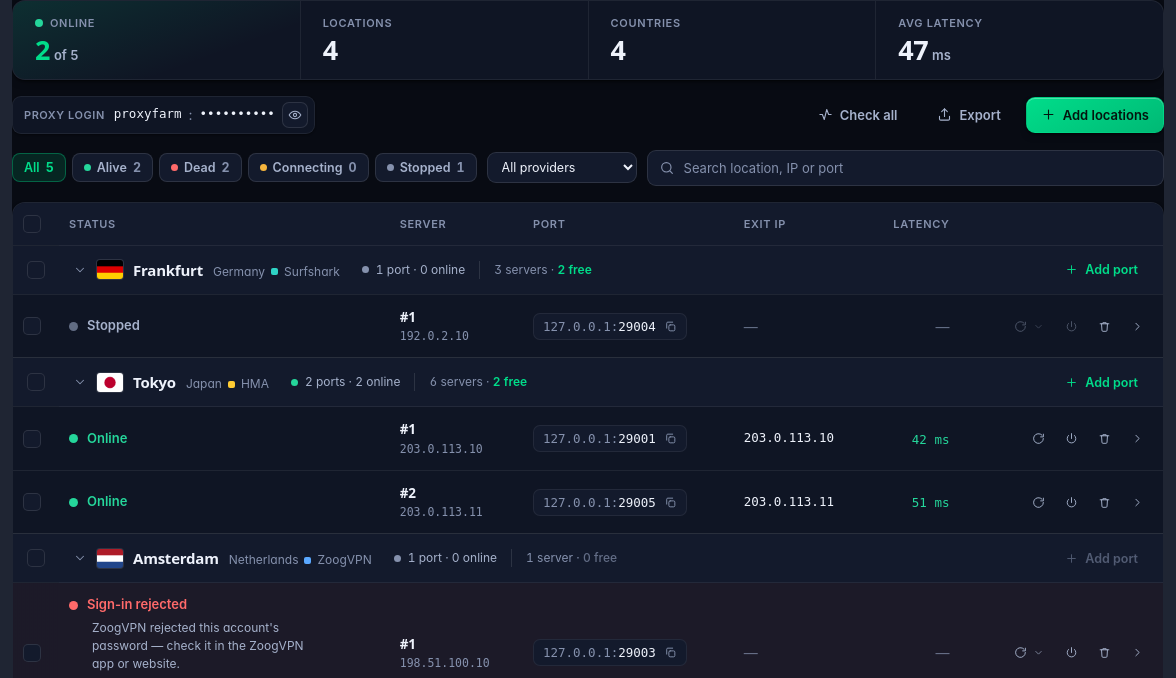
Test: MainScreen › the group checkbox selects every port of that location
Expected: the row with test id "port-row-hma:JP-TOKYO#1" is shown, x1=13 y1=407 x2=1163 y2=470
Click the checkbox named "Select every port in Tokyo" at [36, 382], box x1=27 y1=373 x2=45 y2=391
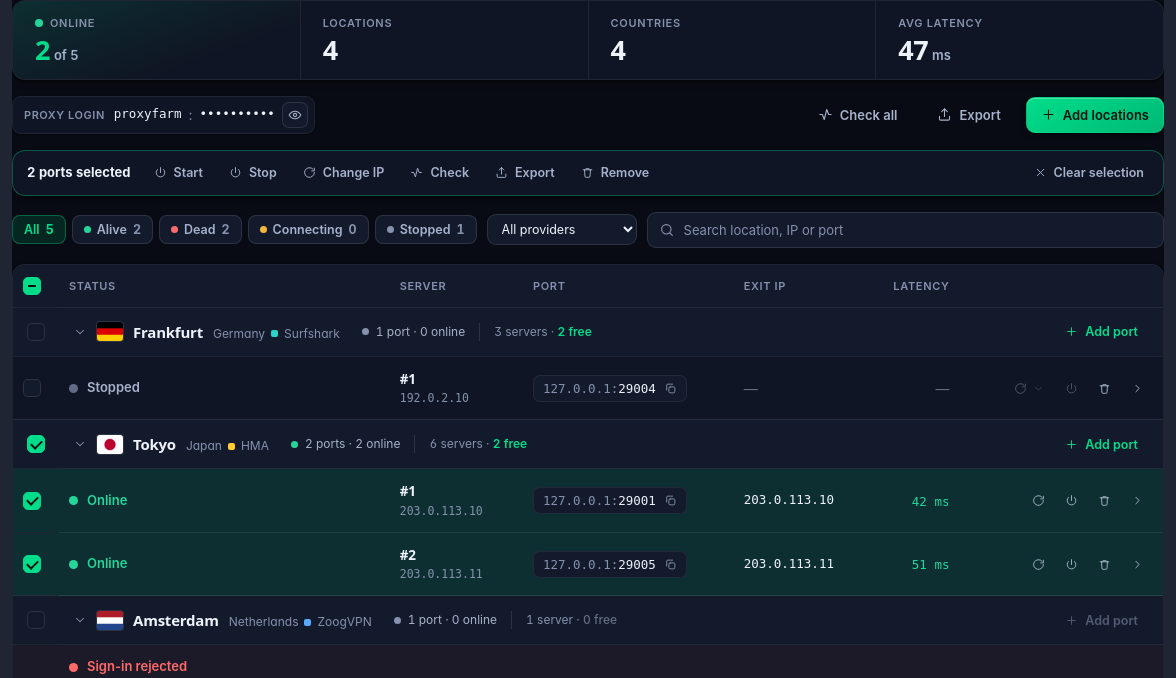
Result: the element with test id "bulk-action-bar" shows "2 ports selected" at x1=27 y1=164 x2=131 y2=180
